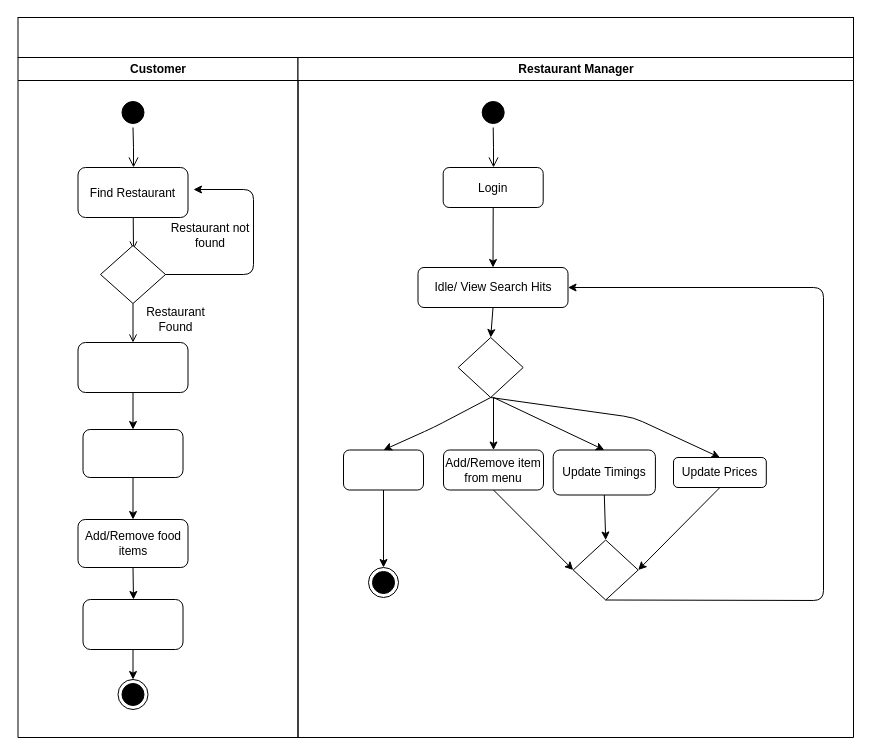
Some shapes in this 871 by 755 pixel diagram are drawn without their labels. Each missing label, with the box of its shape:
Activity Diagram 1 : Restaurant Finder: (17, 16, 854, 58)
Find total cost: (82, 598, 183, 650)
Logout: (342, 449, 424, 490)
View Menu: (82, 428, 183, 478)
View Timings & Open status: (77, 342, 188, 392)
